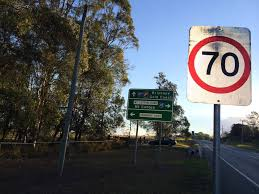Speed_limit_70km: (187, 35, 251, 93)
